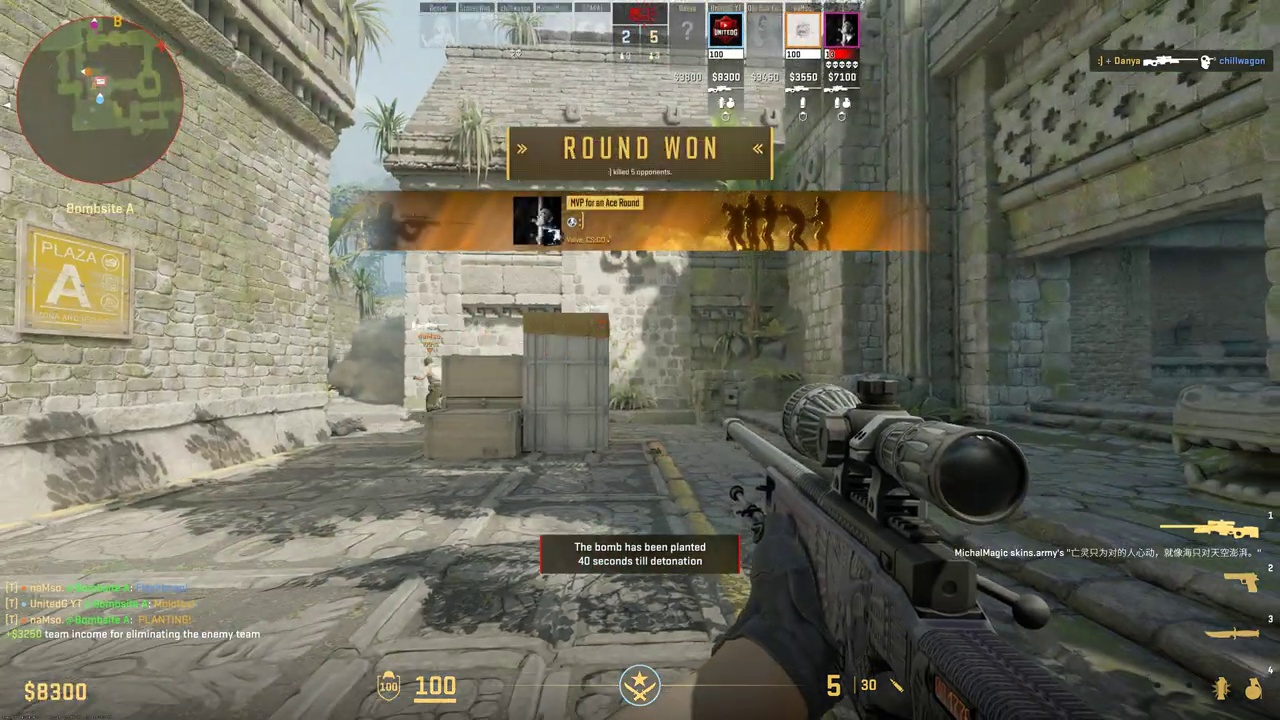Terrorist: (423, 357, 442, 411)
